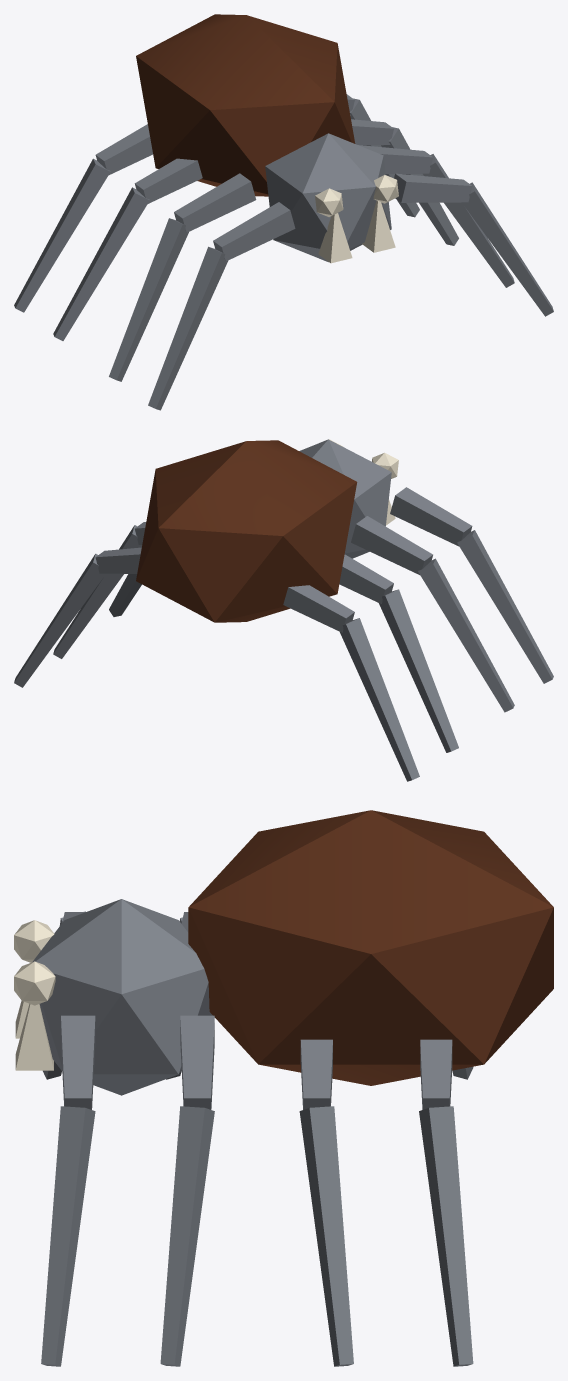
Rendered from spider.glb.
The picture shows the model from 3 angles, top to bottom: view 1: azimuth 30°, elevation 25°; view 2: azimuth 150°, elevation 25°; view 3: azimuth 270°, elevation 25°; orthographic projection. The views are drawn at different scales.
Parts seen in each view (by area): view 1: abdomen, thorax, lower_l0, lower_l1, lower_l3, lower_l2, lower_r0, upper_l0, upper_l1, upper_r0, lower_r1, upper_l2 (+9 smaller); view 2: abdomen, thorax, lower_l2, lower_l3, lower_l1, lower_l0, lower_r3, upper_l1, upper_l0, upper_l3, lower_r2, upper_l2 (+2 smaller); view 3: abdomen, thorax, lower_r1, lower_r0, lower_r3, lower_r2, upper_r1, upper_r0, upper_r3, upper_r2, fang_2, eye_r.006 (+1 smaller).
Part boxes in pixels (left/top/right/bottom): abdomen: left=136, top=14, right=355, bottom=196; thorax: left=265, top=133, right=391, bottom=262; lower_l0: left=148, top=246, right=227, bottom=410; lower_l1: left=109, top=218, right=188, bottom=381; lower_l3: left=14, top=158, right=110, bottom=312; lower_l2: left=53, top=187, right=149, bottom=340; lower_r0: left=462, top=182, right=553, bottom=316; upper_l0: left=213, top=202, right=295, bottom=261; upper_l1: left=174, top=173, right=256, bottom=232; upper_r0: left=394, top=173, right=472, bottom=202; lower_r1: left=423, top=154, right=514, bottom=287; upper_l2: left=134, top=158, right=202, bottom=203; abdomen: left=136, top=440, right=357, bottom=622; thorax: left=299, top=439, right=391, bottom=558; lower_l2: left=379, top=589, right=458, bottom=752; lower_l3: left=340, top=618, right=419, bottom=781; lower_l1: left=418, top=558, right=514, bottom=712; lower_l0: left=457, top=530, right=553, bottom=683; lower_r3: left=14, top=553, right=105, bottom=687; upper_l1: left=351, top=516, right=432, bottom=574; upper_l0: left=390, top=487, right=472, bottom=546; upper_l3: left=283, top=585, right=354, bottom=632; lower_r2: left=53, top=525, right=142, bottom=658; upper_l2: left=339, top=554, right=393, bottom=603; abdomen: left=188, top=810, right=553, bottom=1085; thorax: left=32, top=899, right=212, bottom=1095; lower_r1: left=160, top=1106, right=214, bottom=1366; lower_r0: left=41, top=1106, right=95, bottom=1366; lower_r3: left=419, top=1106, right=473, bottom=1366; lower_r2: left=299, top=1106, right=353, bottom=1366; upper_r1: left=180, top=1015, right=214, bottom=1109; upper_r0: left=61, top=1015, right=95, bottom=1109; upper_r3: left=420, top=1039, right=452, bottom=1109; upper_r2: left=300, top=1039, right=332, bottom=1109; fang_2: left=15, top=1003, right=53, bottom=1070; eye_r.006: left=14, top=961, right=55, bottom=1005.
Bounding box in the file's own units: 1.31 × 0.8391 × 0.9951.
